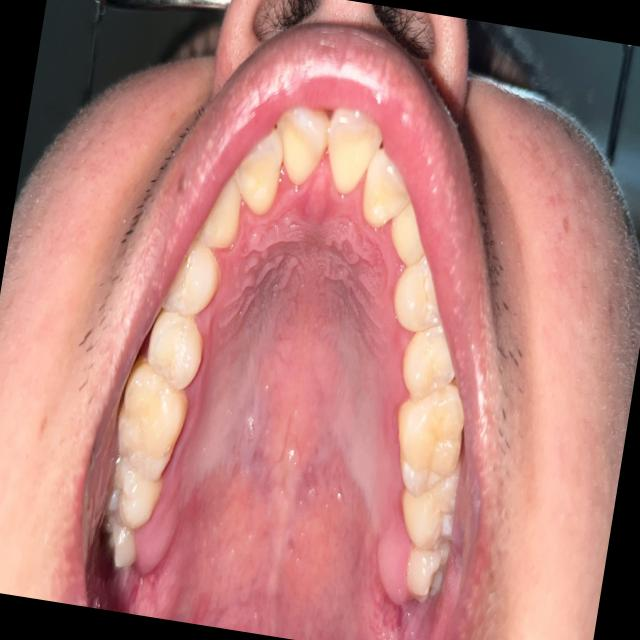tooth: (379, 372, 478, 507), (108, 352, 197, 490), (382, 447, 472, 562), (313, 99, 390, 219), (264, 88, 342, 202), (353, 138, 421, 245), (99, 442, 173, 540), (391, 319, 467, 410), (383, 249, 457, 342), (227, 119, 290, 228), (155, 236, 231, 324), (141, 304, 214, 395), (394, 535, 459, 615), (90, 501, 152, 579), (198, 167, 250, 258), (383, 194, 436, 278)
